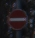No entry: (6, 6, 30, 33)
